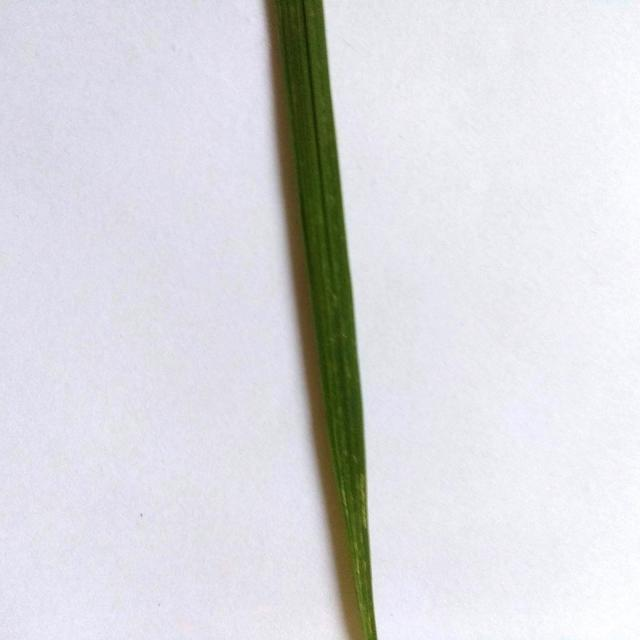healthy: (237, 1, 463, 640)
